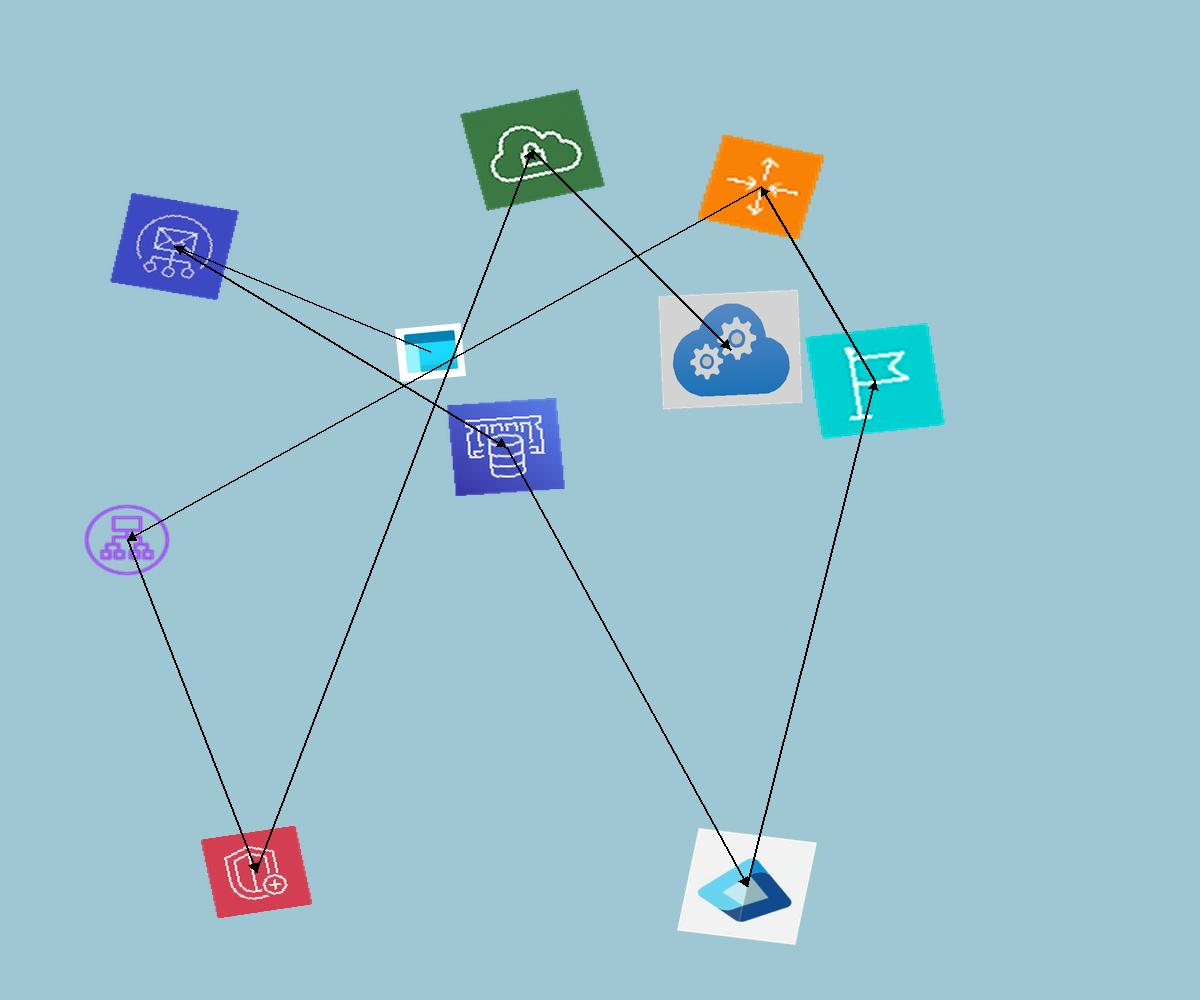AWS-ElastiCache: (446, 397, 566, 497)
AWS-Private_vpc: (459, 89, 606, 211)
AWS-Region: (804, 322, 946, 440)
AWS-Res_Elastic-Load-Balancing_Application-Load-Balancer: (79, 500, 175, 580)
AWS-Scaling-group: (696, 133, 826, 241)
AWS-Shield: (200, 825, 313, 919)
AWS-Simple-Email-Service: (109, 192, 240, 301)
Azure_cloud_services: (658, 289, 803, 410)
Azure_management-portal: (395, 323, 466, 382)
Azure_microsoft_entra: (677, 828, 817, 945)
